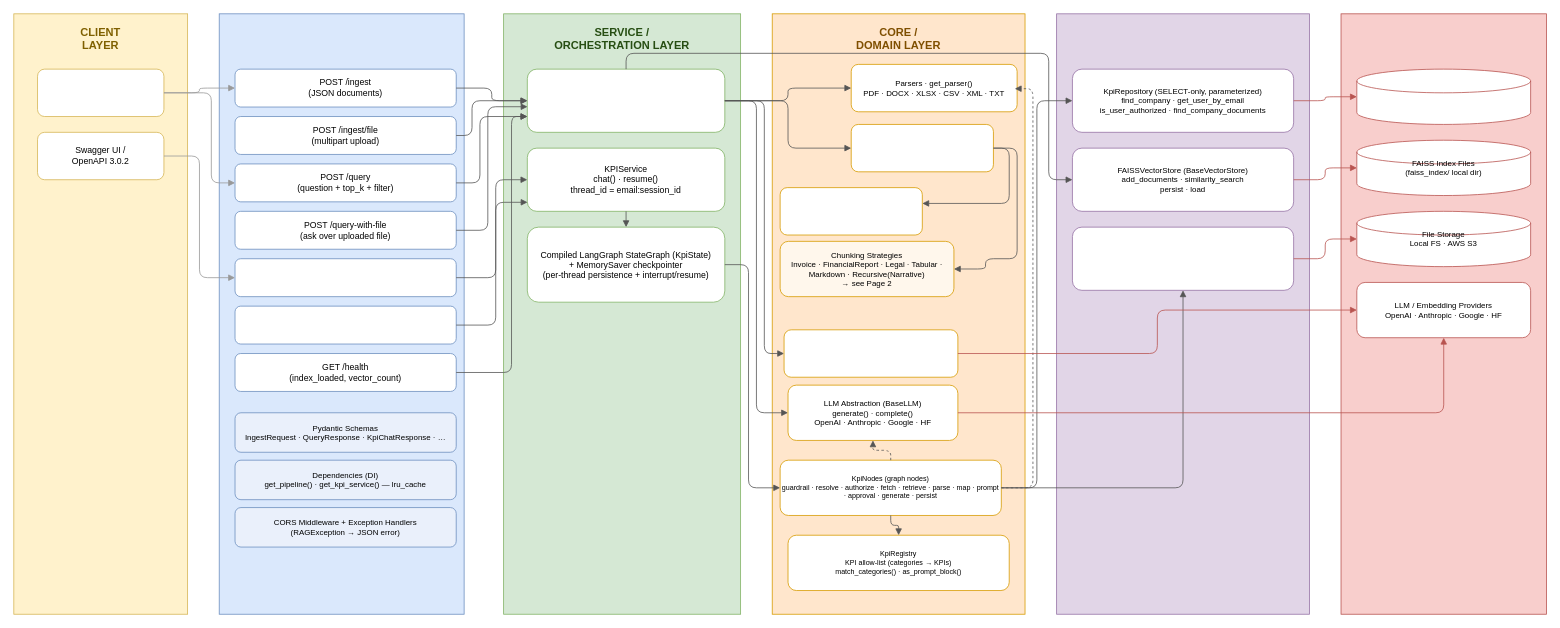
This 1560x628 diagram has some shape labels left out. Each missing label, with the box of its shape:
AdaptiveChunker (routes text → strategy): (850, 124, 993, 172)
API LAYER FastAPI · REST ENDPOINTS (/api/v1): (218, 13, 464, 614)
DataStorage (nse_data_storage) LocalFileStorage · AwsFileStorage retrieve(): (1072, 226, 1294, 290)
DocumentClassifier (file_type · keyword density · structure): (779, 187, 922, 235)
Embeddings (BaseEmbedder) OpenAI · Voyage · Google · HuggingFace: (783, 329, 958, 377)
EXTERNAL SYSTEMS: (1340, 13, 1546, 614)
HTTP / REST Client (curl, app, integration): (37, 68, 164, 117)
POST /kpi/approve (HITL decision + feedback): (234, 305, 456, 344)
POST /kpi/chat (email, symbol, message): (234, 258, 456, 297)
PostgreSQL users · companies watchlists · documents: (1356, 68, 1531, 124)
RAGPipeline ingest() · query() query_with_extra_context(): (527, 68, 725, 132)
REPOSITORY / PERSISTENCE LAYER: (1056, 13, 1309, 614)
